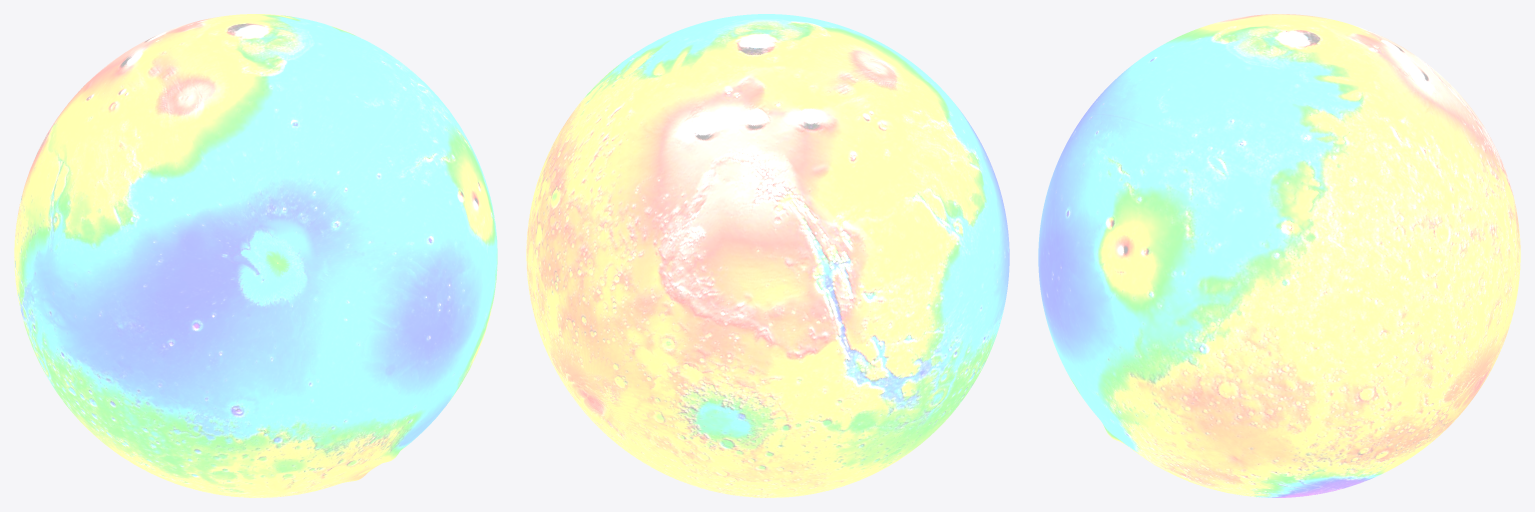
File: thermal-mars.glb
The picture shows the model from 3 angles, left to right: view 1: azimuth 30°, elevation 25°; view 2: azimuth 150°, elevation 25°; view 3: azimuth 270°, elevation 25°; orthographic projection.
Parts seen in each view (by area): view 1: Mars_Globe; view 2: Mars_Globe; view 3: Mars_Globe.
Boxes of the visible parts, x1,y1,x2,y2 form: Mars_Globe: (14, 14, 497, 497); Mars_Globe: (526, 14, 1009, 497); Mars_Globe: (1038, 14, 1520, 497).
Size of the model in its own units: 6.79 by 6.8 by 6.77.
Materials: 1 (1 with a texture image).
